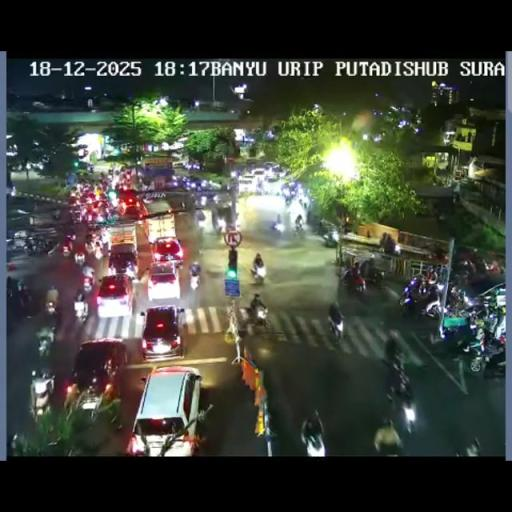Car: (126, 365, 202, 454), (68, 338, 129, 418), (139, 304, 186, 360), (95, 274, 135, 318), (146, 262, 182, 302), (107, 242, 139, 278), (150, 236, 185, 266), (117, 188, 143, 218), (250, 169, 266, 186), (238, 175, 254, 191), (213, 190, 231, 204), (262, 162, 280, 174), (244, 158, 262, 168)
Motorcycle: (382, 369, 416, 432), (464, 330, 505, 374), (400, 278, 442, 320), (440, 311, 478, 350), (29, 370, 54, 417), (300, 410, 324, 454), (374, 429, 404, 457), (339, 267, 365, 295), (386, 328, 406, 364), (35, 322, 55, 357), (446, 286, 468, 315), (327, 312, 345, 343), (62, 381, 80, 410), (450, 266, 472, 289), (16, 288, 34, 314), (10, 431, 28, 455), (72, 297, 89, 322), (6, 276, 24, 299), (194, 210, 206, 242), (253, 304, 268, 329), (463, 436, 481, 456), (422, 267, 438, 288), (358, 256, 373, 278), (322, 228, 339, 247), (61, 235, 75, 258), (250, 263, 266, 283), (39, 238, 58, 254), (432, 246, 448, 264), (24, 237, 38, 256), (189, 270, 201, 291), (104, 203, 118, 221), (69, 208, 83, 225), (272, 219, 286, 235), (485, 260, 501, 274), (74, 248, 86, 266), (45, 298, 57, 316), (82, 262, 94, 280), (93, 241, 103, 260), (82, 276, 92, 294), (379, 232, 389, 250), (294, 220, 304, 236), (216, 216, 226, 232), (102, 238, 110, 257), (438, 211, 450, 223), (233, 216, 242, 231), (392, 243, 402, 256), (342, 222, 352, 234), (299, 198, 309, 210), (110, 194, 118, 208), (200, 180, 211, 190), (52, 209, 61, 221), (284, 194, 292, 206), (199, 196, 207, 206), (95, 214, 103, 224), (180, 200, 186, 209)
